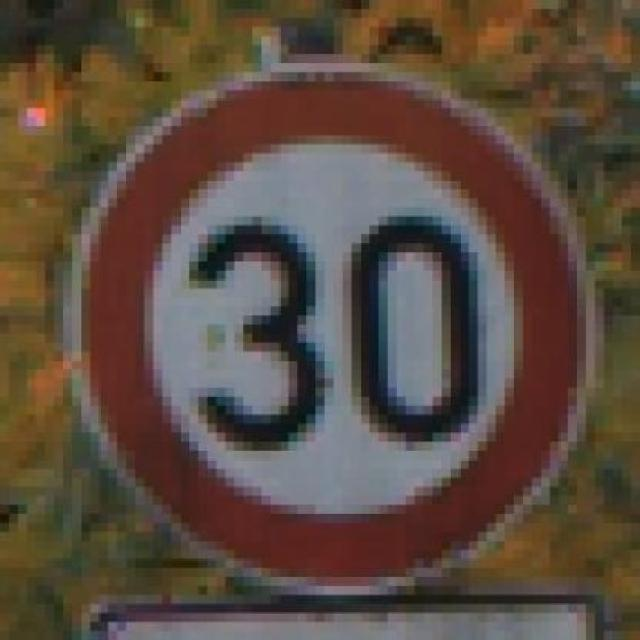Speed Limit 30 KMPh: (36, 36, 622, 604)
